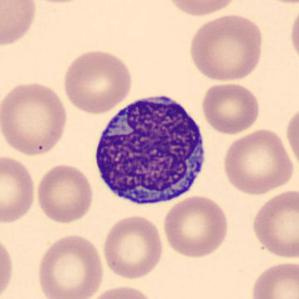Monocyte: (89, 87, 212, 212)
RBC: (186, 12, 266, 83), (0, 79, 70, 157), (220, 127, 296, 196), (60, 47, 134, 115), (35, 232, 105, 299), (161, 194, 231, 260), (100, 213, 166, 280), (34, 161, 95, 225), (198, 80, 262, 135), (250, 187, 298, 260), (0, 153, 37, 224), (248, 259, 298, 299), (0, 0, 39, 50), (162, 0, 242, 18), (86, 284, 158, 299), (0, 232, 16, 299), (284, 104, 299, 169), (287, 2, 299, 67), (23, 0, 93, 6)
